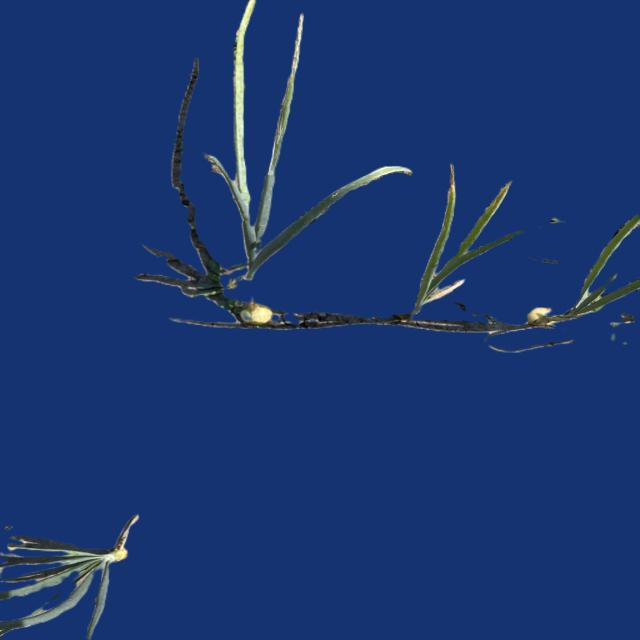Onion: (224, 3, 381, 329), (383, 179, 519, 337), (509, 215, 640, 368), (0, 514, 141, 640)
